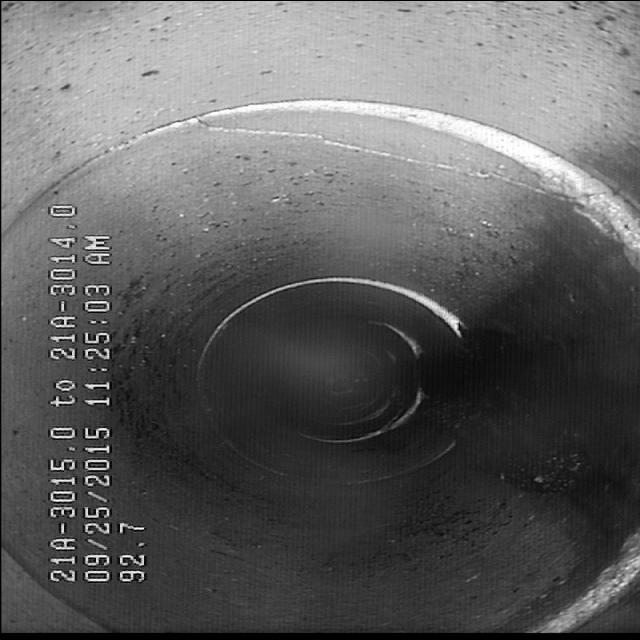Crack: (206, 112, 626, 204)
